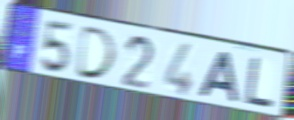2: (119, 34, 158, 91)
4: (163, 40, 194, 98)
5: (38, 17, 76, 75)
A: (196, 49, 240, 105)
D: (73, 24, 118, 82)
L: (244, 55, 276, 110)
